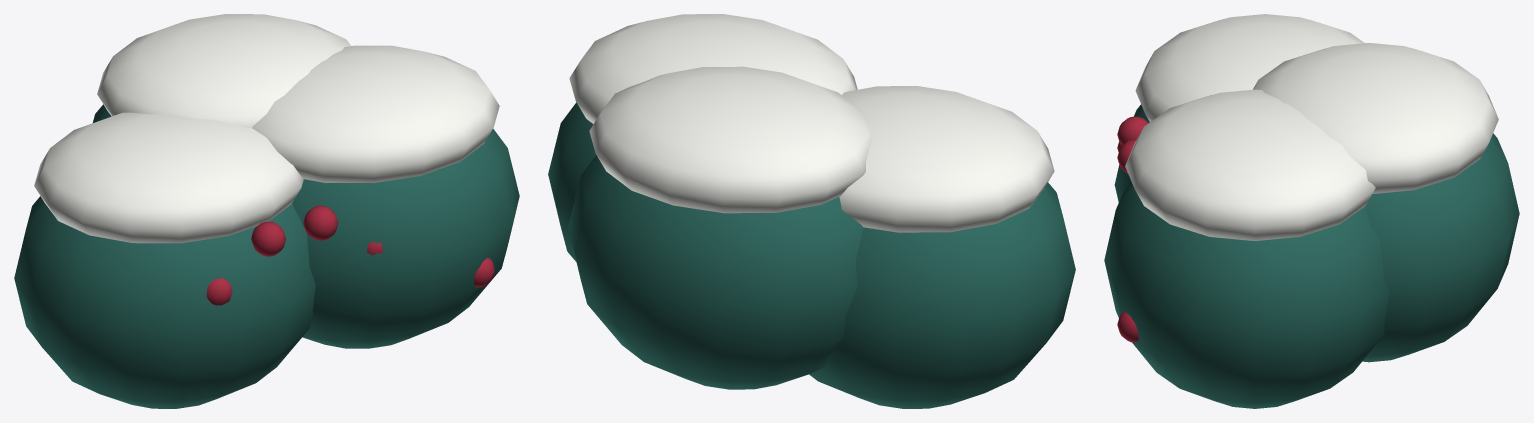
File: christmas-storybook-snowberry-shrub-f31157a5__18706.glb
3 renders of one model, left to right at view 1: azimuth 30°, elevation 25°; view 2: azimuth 150°, elevation 25°; view 3: azimuth 270°, elevation 25°, orthographic. The views are drawn at different scales.
Parts seen in each view (by area): view 1: pine, cream, berry; view 2: pine, cream; view 3: pine, cream, berry.
Boxes of the visible parts, x1,y1,x2,y2 form: pine: (14, 104, 519, 408); cream: (34, 14, 499, 243); berry: (206, 205, 494, 305); pine: (548, 102, 1075, 408); cream: (569, 14, 1054, 232); pine: (1104, 104, 1519, 408); cream: (1125, 14, 1498, 240); berry: (1117, 116, 1148, 342).
Size of the model in its own units: 1.07 by 0.64 by 0.8.
